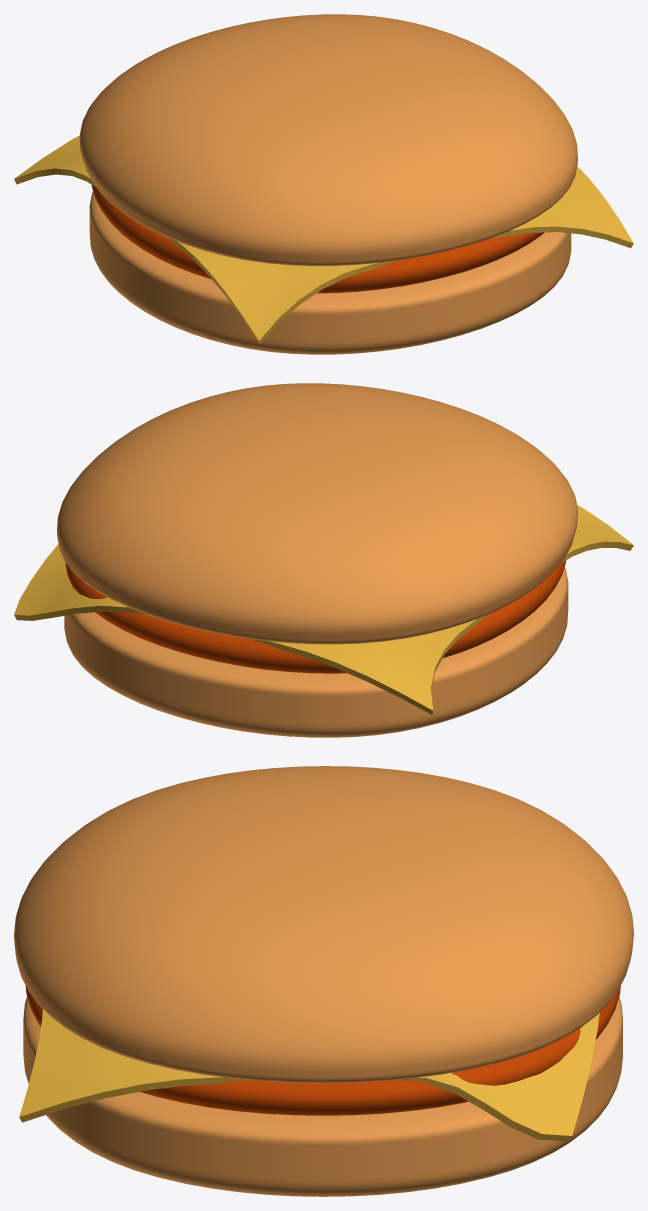
The model's file is hamburger.glb.
The picture shows the model from 3 angles, top to bottom: view 1: azimuth 30°, elevation 25°; view 2: azimuth 150°, elevation 25°; view 3: azimuth 270°, elevation 25°; orthographic projection. The views are drawn at different scales.
Visible parts, largest first — view 1: Cube.002, Cube, Plane, Cube.001; view 2: Cube.002, Cube, Plane, Cube.001; view 3: Cube.002, Cube, Plane, Cube.001.
Boxes of the visible parts, left/top/right/bottom form: Cube.002: left=79, top=14, right=577, bottom=265; Cube: left=89, top=191, right=571, bottom=354; Plane: left=14, top=135, right=633, bottom=343; Cube.001: left=91, top=185, right=544, bottom=293; Cube.002: left=57, top=383, right=577, bottom=644; Cube: left=64, top=567, right=568, bottom=737; Plane: left=14, top=505, right=633, bottom=714; Cube.001: left=65, top=560, right=566, bottom=673; Cube.002: left=14, top=766, right=633, bottom=1083; Cube: left=23, top=997, right=622, bottom=1196; Plane: left=19, top=1009, right=599, bottom=1141; Cube.001: left=25, top=986, right=620, bottom=1115.
Bounding box in the file's own units: 9.36 × 4.4 × 9.33.
